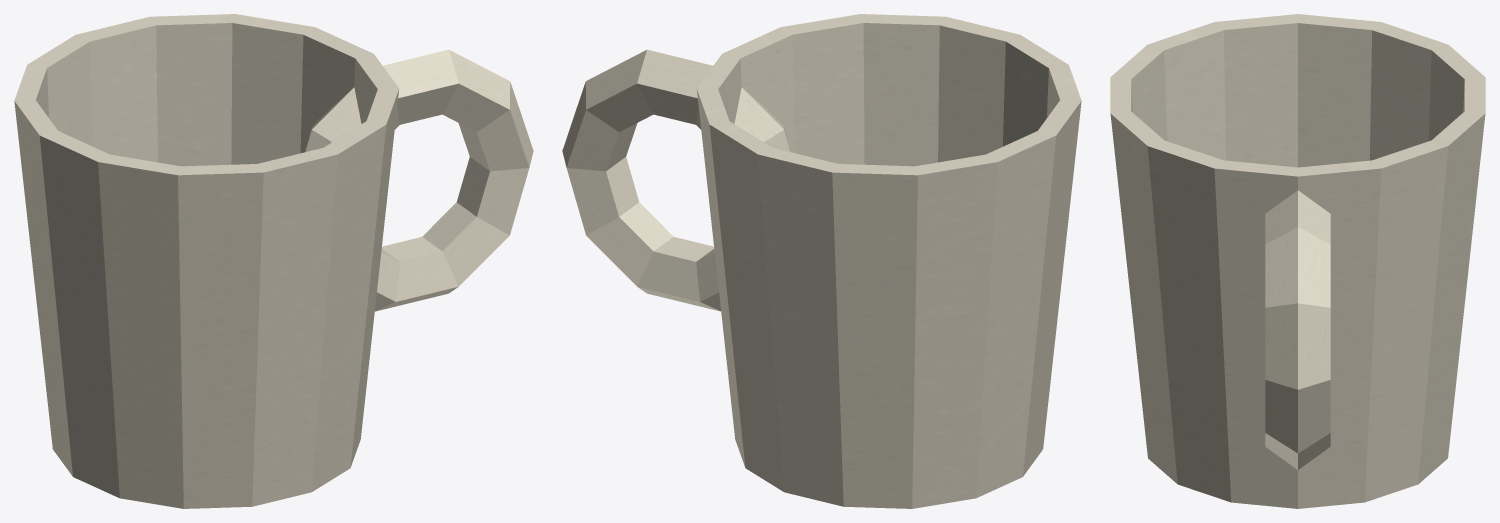
Rendered from MD_60_Teacup.fbx.
The picture shows the model from 3 angles, left to right: view 1: azimuth 30°, elevation 25°; view 2: azimuth 150°, elevation 25°; view 3: azimuth 270°, elevation 25°; orthographic projection.
Visible parts, largest first — view 1: MD_60_Teacup_hollow_cup, MD_60_Teacup_cup_handle; view 2: MD_60_Teacup_hollow_cup, MD_60_Teacup_cup_handle; view 3: MD_60_Teacup_hollow_cup, MD_60_Teacup_cup_handle.
Boxes of the visible parts, box(x1,y1,x2,y2) form: MD_60_Teacup_hollow_cup: box(14, 14, 399, 508); MD_60_Teacup_cup_handle: box(305, 49, 533, 311); MD_60_Teacup_hollow_cup: box(696, 14, 1081, 508); MD_60_Teacup_cup_handle: box(562, 49, 790, 311); MD_60_Teacup_hollow_cup: box(1110, 14, 1485, 508); MD_60_Teacup_cup_handle: box(1265, 190, 1330, 469).
Bounding box in the file's own units: 0.133 × 0.09 × 0.0877.
Materials: 1 (1 with a texture image).
